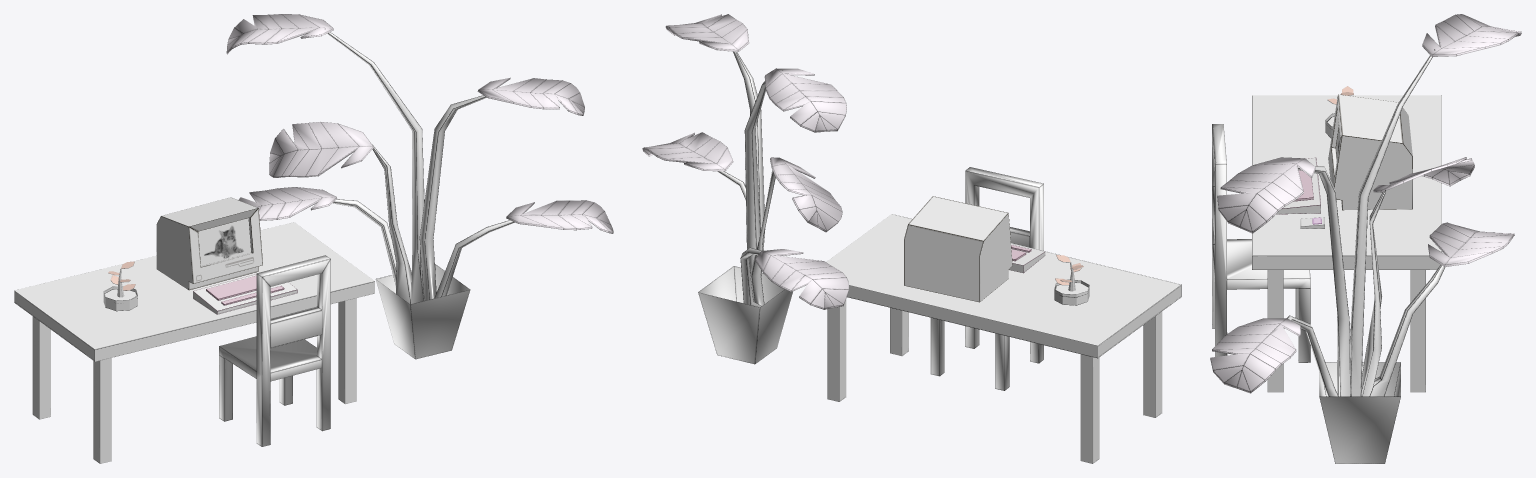
File: room_draft06.gltf
3 renders of one model, left to right at view 1: azimuth 30°, elevation 25°; view 2: azimuth 150°, elevation 25°; view 3: azimuth 270°, elevation 25°, orthographic. The views are drawn at different scales.
Visible parts, largest first — view 1: Palm, Table, Chair, Monitor, Keyboard, Screen, DeskPlant; view 2: Table, Palm, Monitor, Chair, DeskPlant, Keyboard; view 3: Palm, Table, Monitor, Chair, Keyboard.
Boxes of the visible parts, x1=… form: Palm: x1=226, y1=14, x2=613, y2=359; Table: x1=14, y1=222, x2=374, y2=463; Chair: x1=219, y1=255, x2=330, y2=446; Monitor: x1=156, y1=197, x2=262, y2=290; Keyboard: x1=193, y1=274, x2=297, y2=314; Screen: x1=198, y1=218, x2=251, y2=265; DeskPlant: x1=103, y1=261, x2=137, y2=311; Table: x1=826, y1=214, x2=1181, y2=463; Palm: x1=642, y1=14, x2=848, y2=364; Monitor: x1=904, y1=196, x2=1012, y2=302; Chair: x1=930, y1=167, x2=1043, y2=390; DeskPlant: x1=1054, y1=255, x2=1089, y2=305; Keyboard: x1=1009, y1=244, x2=1045, y2=273; Palm: x1=1210, y1=14, x2=1521, y2=463; Table: x1=1252, y1=95, x2=1441, y2=392; Monitor: x1=1328, y1=94, x2=1412, y2=210; Chair: x1=1212, y1=124, x2=1310, y2=362; Keyboard: x1=1276, y1=157, x2=1320, y2=214.
Size of the model in its own units: 203 by 117 by 90.47.
Materials: 16 (16 with a texture image).
